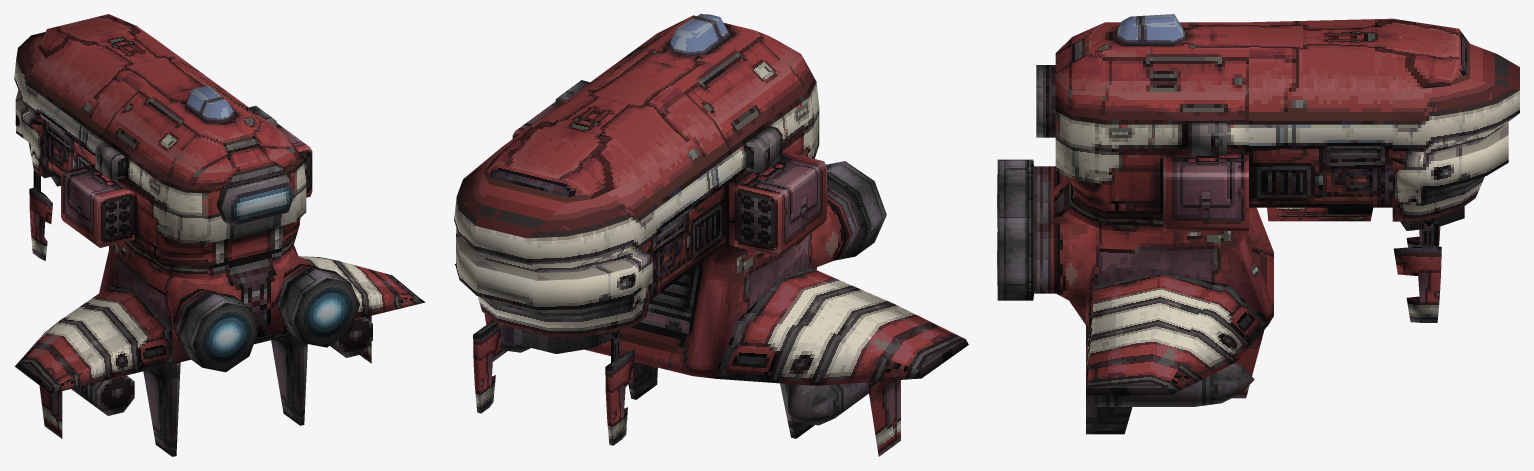
Rendered from hj_cobra.gltf.
3 renders of one model, left to right at view 1: azimuth 30°, elevation 25°; view 2: azimuth 150°, elevation 25°; view 3: azimuth 270°, elevation 25°, orthographic. The views are drawn at different scales.
Parts seen in each view (by area): view 1: Object 1, Object 2, Object 3, Object 4; view 2: Object 1, Object 2, Object 3, Object 4, Object 5; view 3: Object 1, Object 2, Object 3, Object 5.
Part boxes in pixels (x1,y1,x2,y2): Object 1: (36,26,312,279); Object 2: (15,243,425,456); Object 3: (14,14,136,186); Object 4: (29,170,52,260); Object 1: (509,14,826,300); Object 2: (455,161,968,456); Object 3: (454,127,656,353); Object 4: (605,330,634,445); Object 5: (473,321,501,413); Object 1: (1036,14,1392,233); Object 2: (997,159,1273,434); Object 3: (1392,19,1519,230); Object 5: (1393,218,1441,322).
Bounding box in the file's own units: 283 × 235 × 294.
15 materials, 15 textured.
